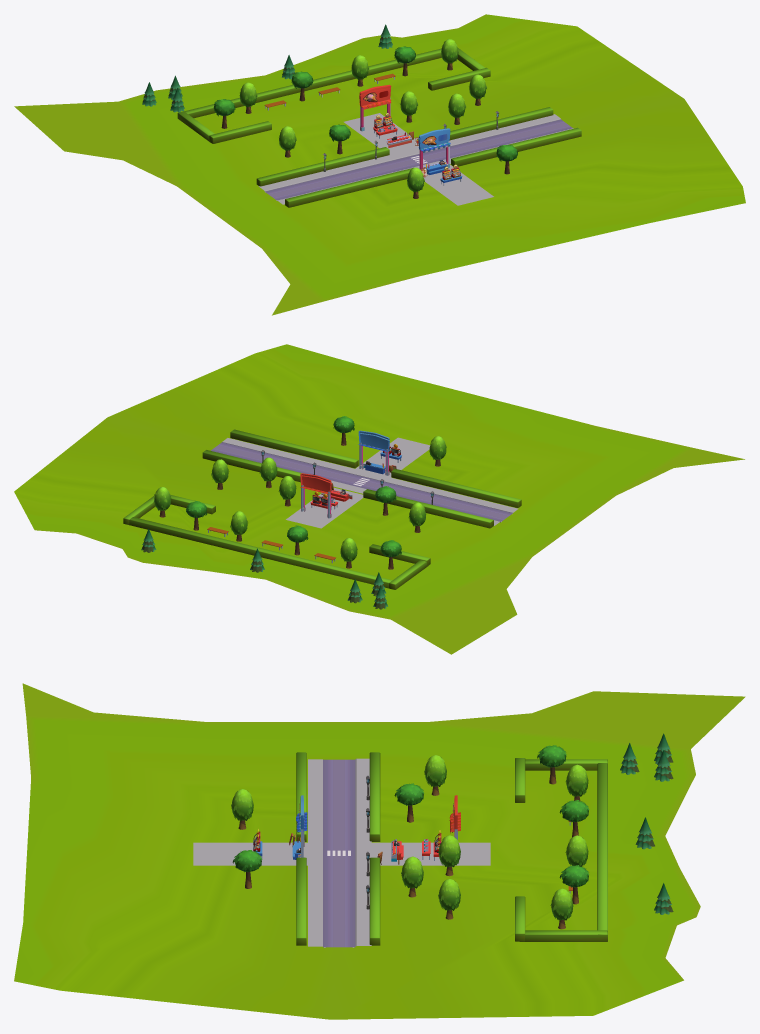
Rendered from background.gltf.
The picture shows the model from 3 angles, top to bottom: view 1: azimuth 30°, elevation 25°; view 2: azimuth 150°, elevation 25°; view 3: azimuth 270°, elevation 25°; orthographic projection. The views are drawn at different scales.
Visible parts, largest first — view 1: ITP_enviroment, ITP_rectangular_bush, ITP_rectangular_bush8, ITP_rectangular_bush10, ITP_rectangular_bush9, ITP_rectangular_bush11, ITP_rectangular_bush4, ITP_rectangular_bush6, ITP_icrecream_post_red; view 2: ITP_enviroment, ITP_rectangular_bush, ITP_rectangular_bush8, ITP_rectangular_bush9, ITP_rectangular_bush10, ITP_rectangular_bush11, ITP_hotdog_post_red; view 3: ITP_enviroment, ITP_rectangular_bush, ITP_rectangular_bush10, ITP_rectangular_bush11, ITP_rectangular_bush7, ITP_rectangular_bush9, ITP_rectangular_bush8, ITP_rectangular_bush5, ITP_exterior_tree_09, ITP_exterior_tree_02, ITP_exterior_tree_08, ITP_exterior_tree_11 (+9 smaller).
Part boxes in pixels (left/top/right/bottom): ITP_enviroment: left=14, top=14, right=745, bottom=315; ITP_rectangular_bush: left=184, top=48, right=441, bottom=118; ITP_rectangular_bush8: left=285, top=168, right=412, bottom=207; ITP_rectangular_bush10: left=256, top=147, right=389, bottom=186; ITP_rectangular_bush9: left=451, top=127, right=581, bottom=166; ITP_rectangular_bush11: left=449, top=107, right=553, bottom=140; ITP_rectangular_bush4: left=209, top=121, right=271, bottom=143; ITP_rectangular_bush6: left=428, top=67, right=490, bottom=90; ITP_icrecream_post_red: left=359, top=88, right=391, bottom=131; ITP_enviroment: left=14, top=344, right=744, bottom=654; ITP_rectangular_bush: left=123, top=517, right=392, bottom=588; ITP_rectangular_bush8: left=391, top=468, right=521, bottom=507; ITP_rectangular_bush9: left=230, top=429, right=358, bottom=468; ITP_rectangular_bush10: left=363, top=489, right=493, bottom=528; ITP_rectangular_bush11: left=202, top=450, right=301, bottom=482; ITP_hotdog_post_red: left=300, top=473, right=331, bottom=518; ITP_enviroment: left=14, top=683, right=745, bottom=1019; ITP_rectangular_bush: left=597, top=763, right=607, bottom=941; ITP_rectangular_bush10: left=369, top=752, right=380, bottom=841; ITP_rectangular_bush11: left=369, top=857, right=380, bottom=945; ITP_rectangular_bush7: left=520, top=930, right=607, bottom=941; ITP_rectangular_bush9: left=296, top=857, right=306, bottom=945; ITP_rectangular_bush8: left=296, top=752, right=306, bottom=841; ITP_rectangular_bush5: left=525, top=759, right=607, bottom=770; ITP_exterior_tree_09: left=424, top=755, right=446, bottom=795; ITP_exterior_tree_02: left=438, top=835, right=460, bottom=876; ITP_exterior_tree_08: left=550, top=888, right=573, bottom=929; ITP_exterior_tree_11: left=438, top=878, right=460, bottom=919.
Bounding box in the file's own units: 70.81 × 5.58 × 65.09.
1 material, 1 textured.
